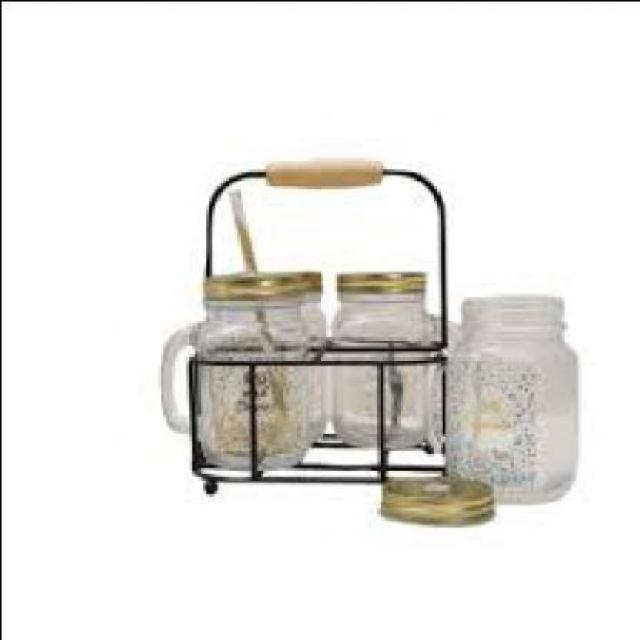GLASS: (157, 293, 321, 464), (444, 293, 571, 498), (327, 293, 458, 444)
METAL: (376, 471, 490, 524), (196, 268, 316, 295), (330, 267, 421, 290)
